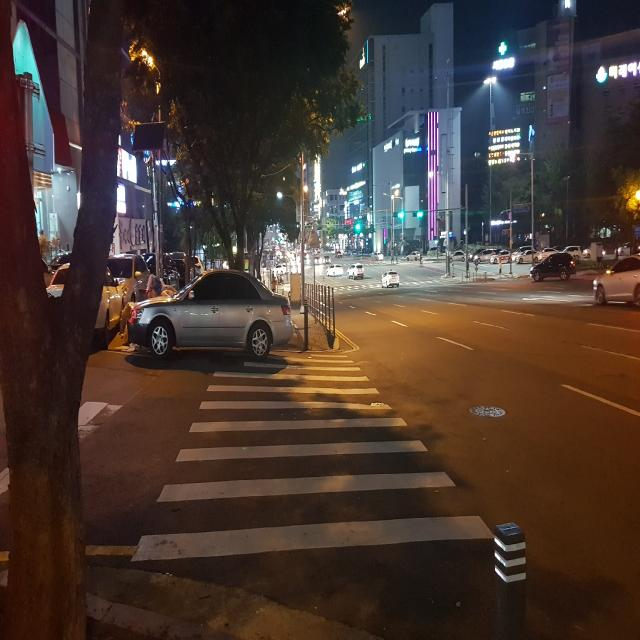횡단보도: (130, 354, 495, 562)
